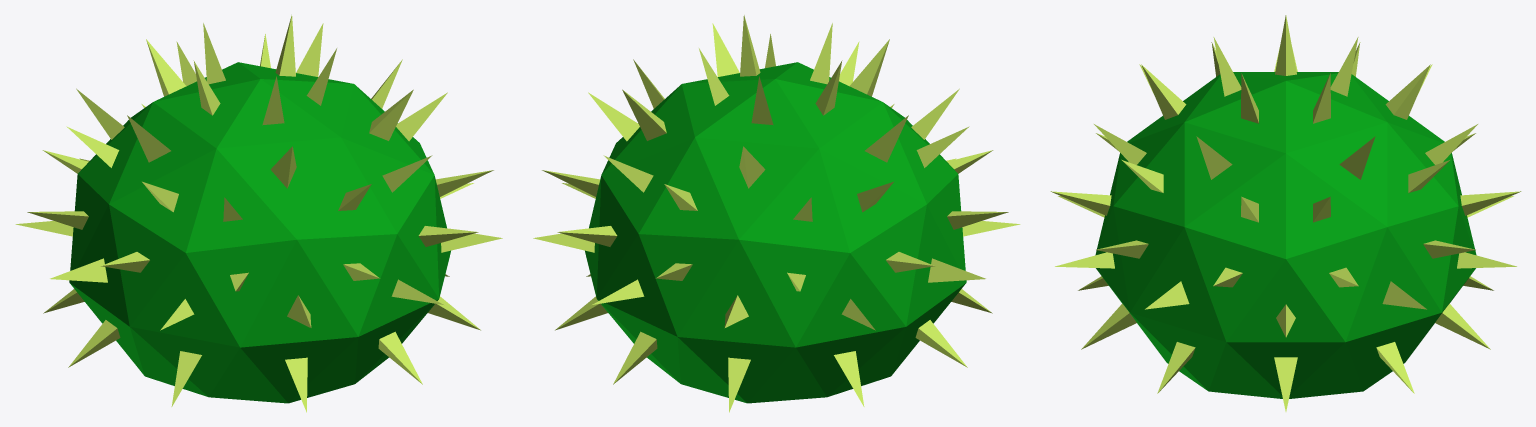
Rendered from Cactus2.fbx.
The picture shows the model from 3 angles, left to right: view 1: azimuth 30°, elevation 25°; view 2: azimuth 150°, elevation 25°; view 3: azimuth 270°, elevation 25°; orthographic projection.
Parts seen in each view (by area): view 1: Icosphere; view 2: Icosphere; view 3: Icosphere.
Boxes of the visible parts, bbox=[...] form: Icosphere: bbox=[15, 15, 502, 412]; Icosphere: bbox=[533, 15, 1020, 412]; Icosphere: bbox=[1050, 15, 1521, 411].
Size of the model in its own units: 215 by 147 by 209.
